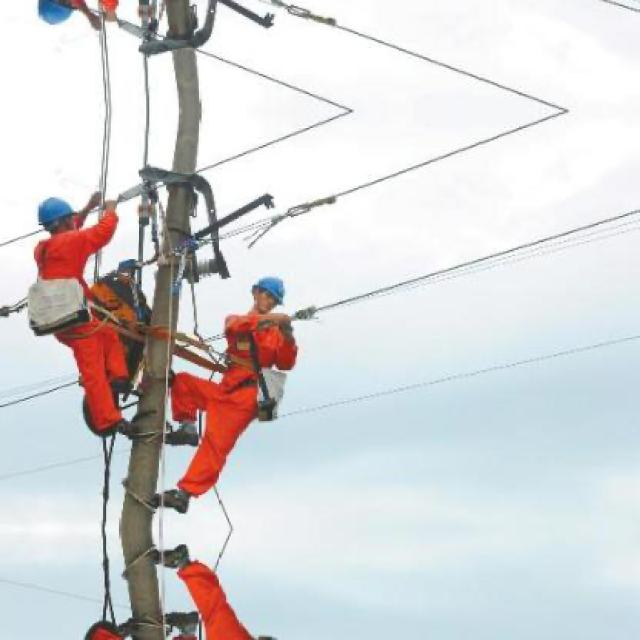con casco: (0, 176, 109, 269), (229, 263, 299, 327)
